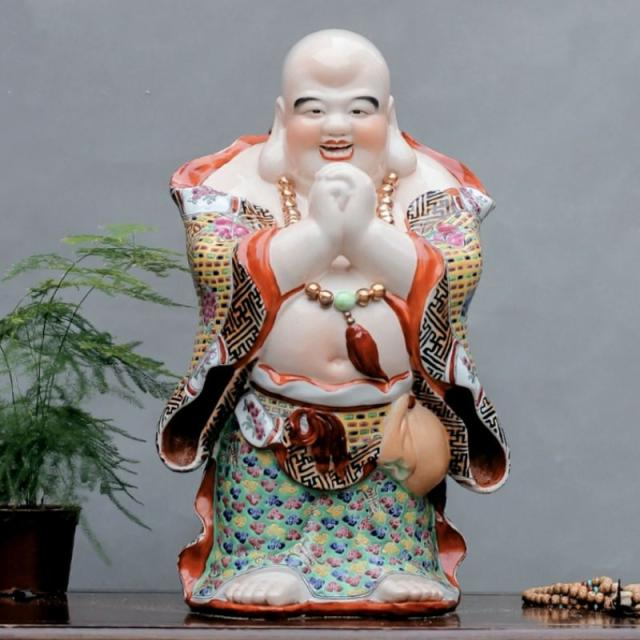Smiling Buddha: (177, 24, 468, 436)
